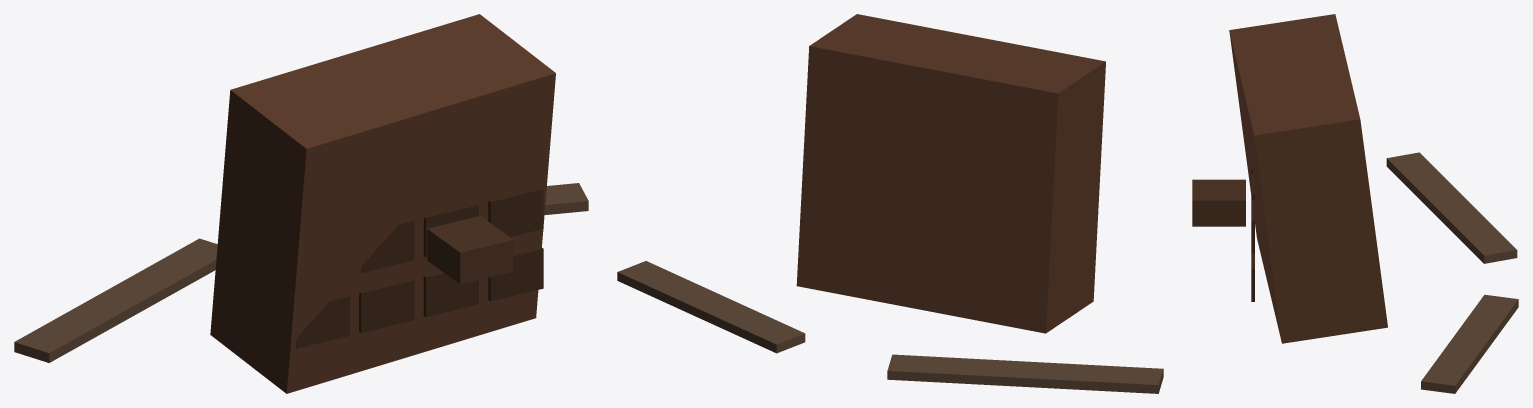
File: s3_fallen_medicine_chest.glb
The picture shows the model from 3 angles, left to right: view 1: azimuth 30°, elevation 25°; view 2: azimuth 150°, elevation 25°; view 3: azimuth 270°, elevation 25°; orthographic projection. The views are drawn at different scales.
Parts seen in each view (by area): view 1: s3_fallen_medicine_chest; view 2: s3_fallen_medicine_chest; view 3: s3_fallen_medicine_chest.
Boxes of the visible parts, x1,y1,x2,y2 form: s3_fallen_medicine_chest: (14, 14, 588, 393); s3_fallen_medicine_chest: (617, 14, 1163, 393); s3_fallen_medicine_chest: (1192, 14, 1518, 393).
Bounding box in the file's own units: 3.09 × 1.36 × 1.82.
